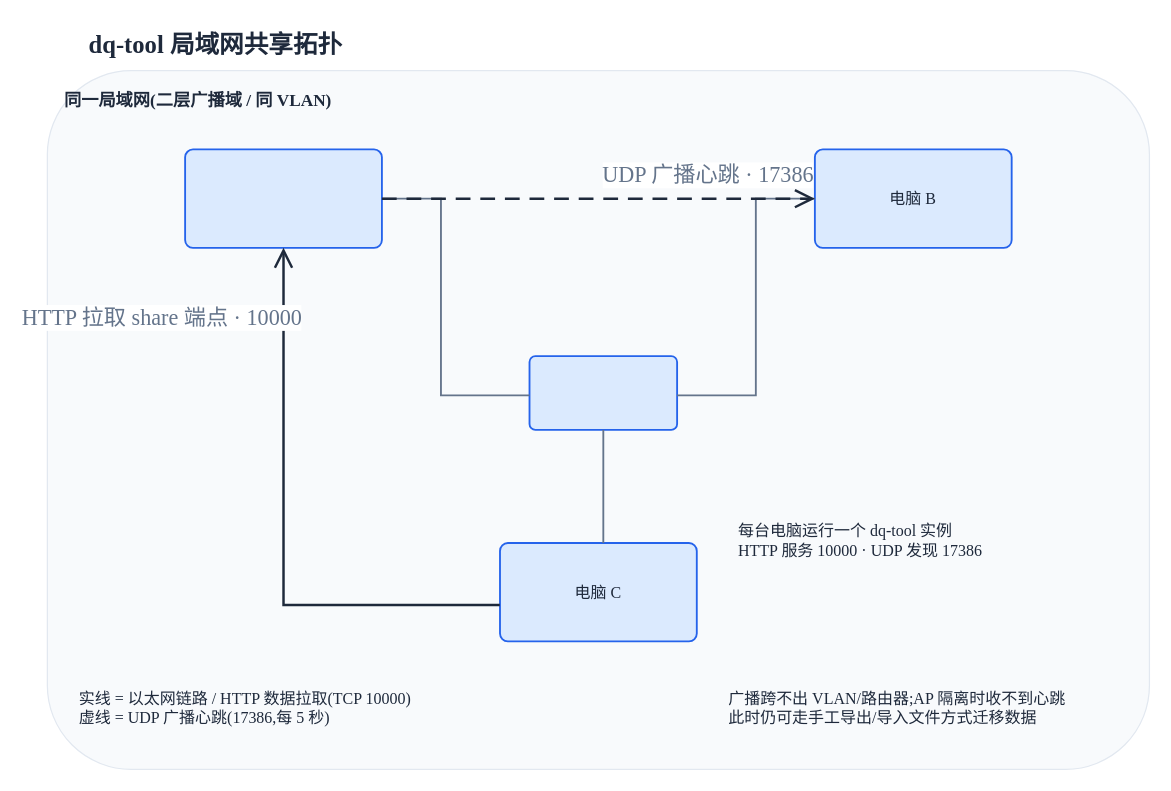
The diagram is 1171 pixels wide and 791 high, and some of its shapes have lost their labels. Each missing label, with the centre of its shape:
二层交换机: point (602, 392)
电脑 A: point (283, 198)
